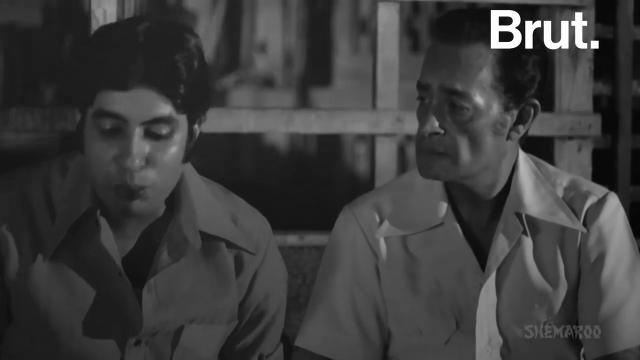spit: (75, 78, 206, 300)
